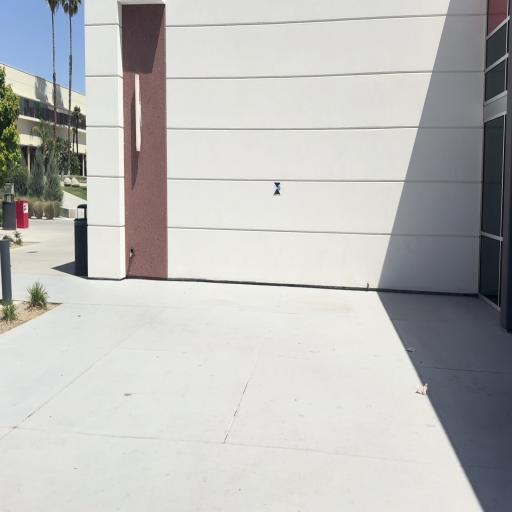target0: (273, 182, 281, 196)
